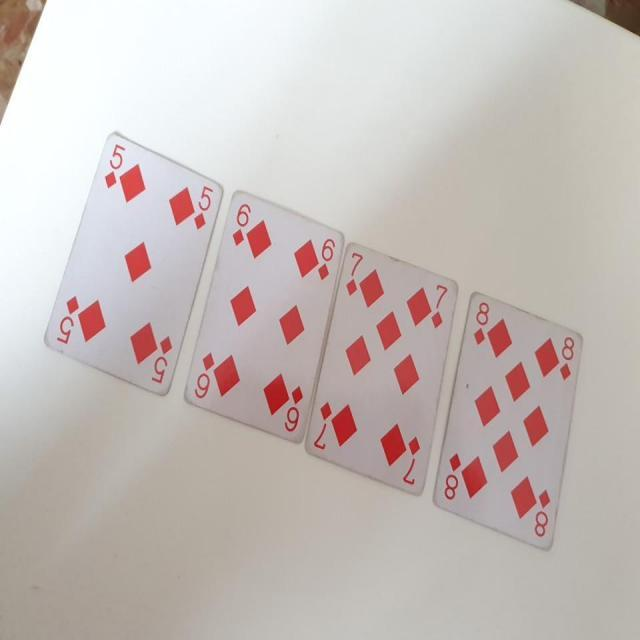5 of diamonds: (34, 128, 226, 404)
6 of diamonds: (181, 186, 344, 446)
7 of diamonds: (302, 240, 462, 500)
8 of diamonds: (432, 291, 586, 553)
